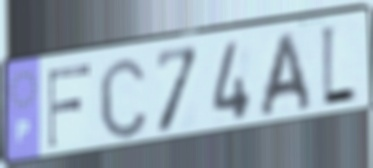4: (210, 37, 253, 125)
7: (154, 42, 199, 137)
A: (256, 29, 315, 121)
C: (96, 53, 150, 143)
F: (46, 61, 93, 152)
L: (319, 22, 359, 112)
